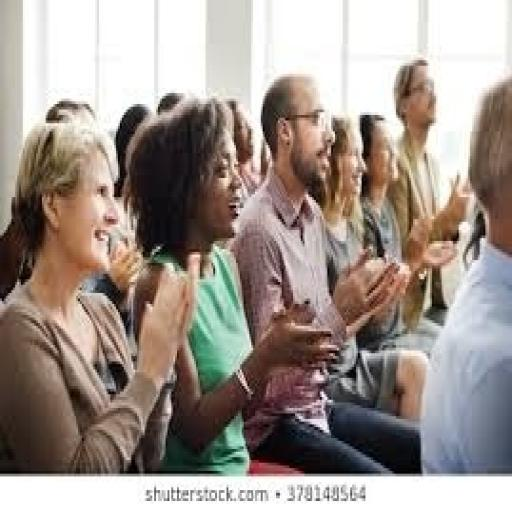clapping: (226, 71, 428, 474), (122, 93, 335, 474), (0, 118, 196, 474)
